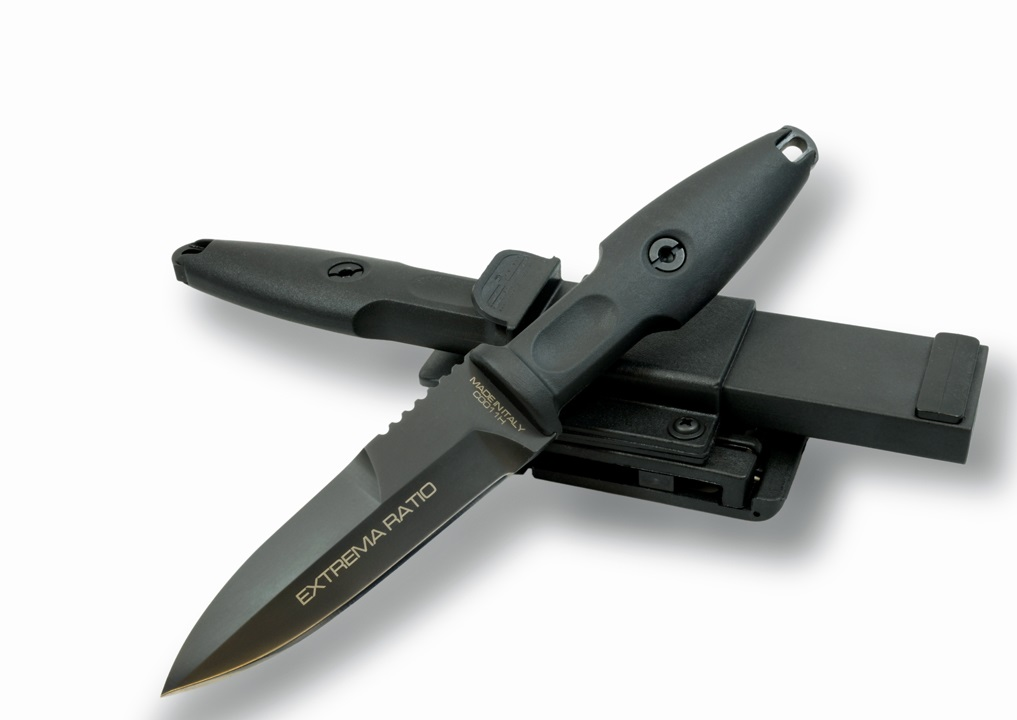knife: (153, 345, 550, 709)
